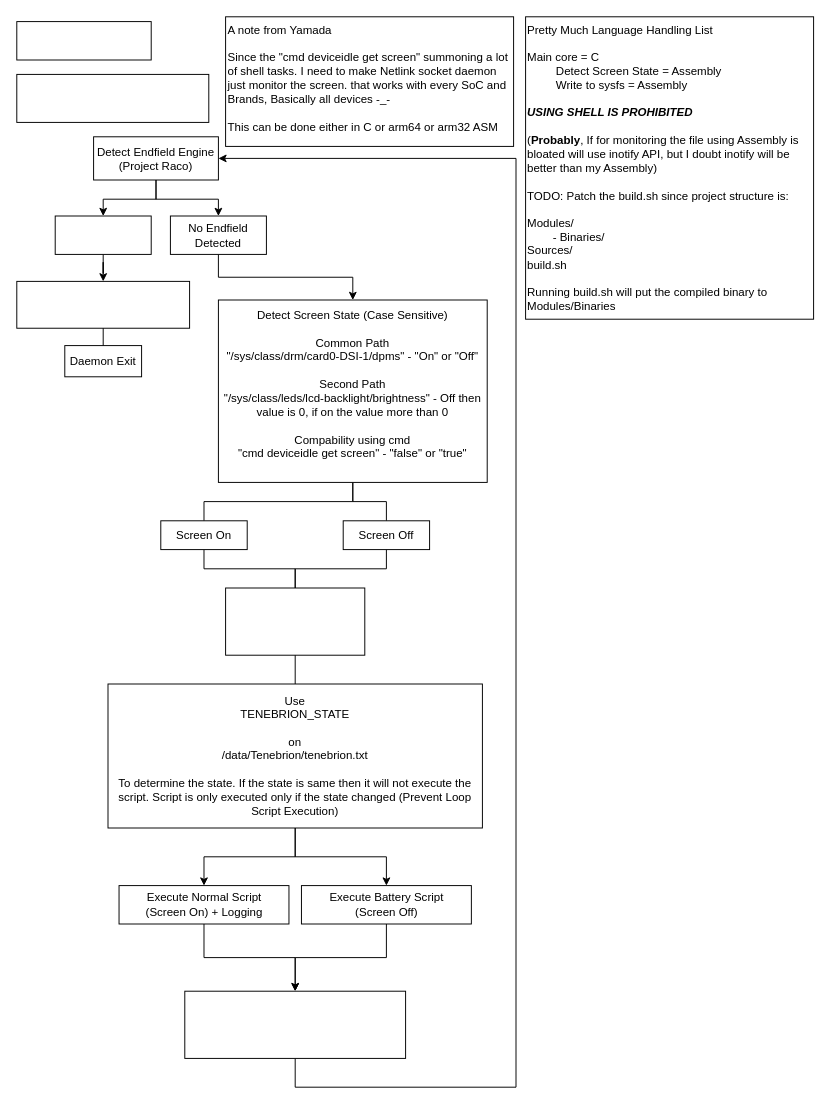
The diagram is 830 pixels wide and 1112 high, and some of its shapes have lost their labels. The centre of each missing label's shape, as x and y in pixels:
Daemon Stop With Message "Tenebrion Blocked, Please Disable Endfield Engine": point 103,304
Detected Endfield: point 102,234
Sleep 3 Checks Every 3 Seconds to Prevent Overhead: point 295,1024
Tenebrion Battery By: Kanagawa Yamada: point 83,40
Tenebrion Core (Main Daemon) - C / ASM arm64 (NO SUPPORT FOR 32 BIT): point 112,97
Write the state 0 = Screen Off 1 = Screen On: point 295,621
